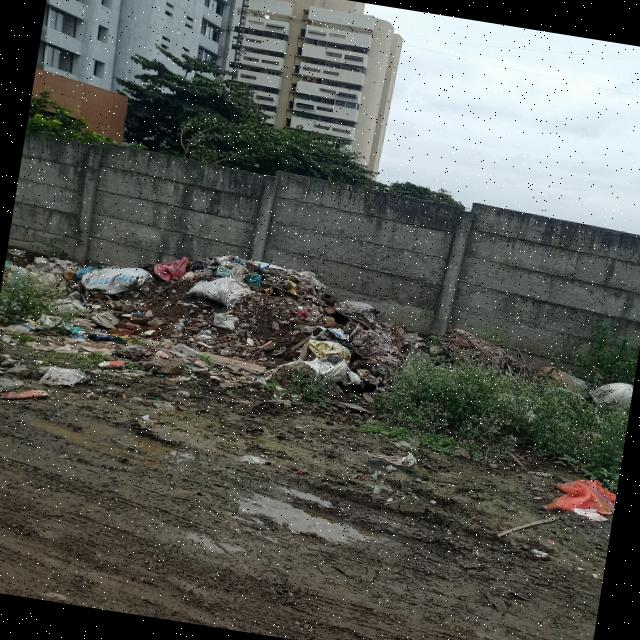garbage: (148, 249, 435, 436), (0, 244, 173, 406), (432, 326, 638, 414)
